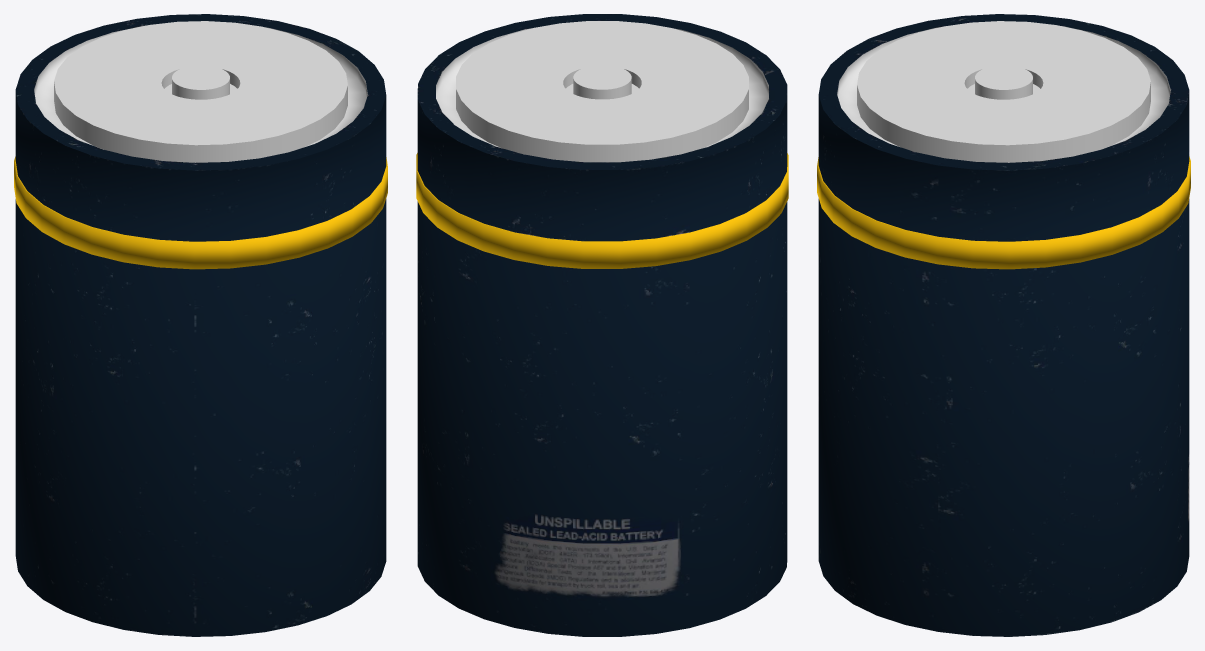
File: Battery.fbx
3 views of the same model, side by side, from view 1: azimuth 30°, elevation 25°; view 2: azimuth 150°, elevation 25°; view 3: azimuth 270°, elevation 25° (orthographic).
Parts seen in each view (by area): view 1: Battery; view 2: Battery; view 3: Battery.
Part boxes in pixels (x1=…): Battery: x1=14, y1=14, x2=387, y2=636; Battery: x1=416, y1=14, x2=788, y2=636; Battery: x1=817, y1=14, x2=1190, y2=636.
Size of the model in its own units: 184 by 261 by 184.
